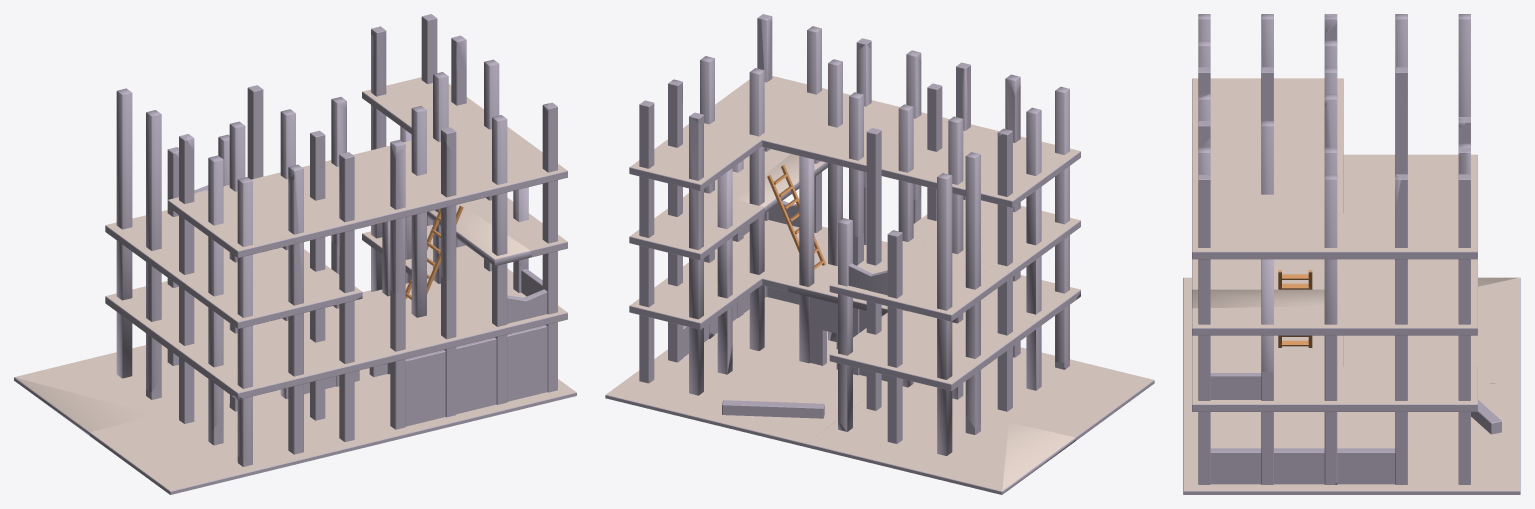
Rendered from construction1.fbx.
3 renders of one model, left to right at view 1: azimuth 30°, elevation 25°; view 2: azimuth 150°, elevation 25°; view 3: azimuth 270°, elevation 25°, orthographic. The views are drawn at different scales.
Parts seen in each view (by area): view 1: construction1.001_cell.002, construction1.005_cell.004, construction1.005_cell, construction1.001_cell.009, construction1.001_cell.003, construction1.001_cell.004, construction1.002_cell.002, construction1.006_cell.003, construction1.004_cell.002, construction1.021_cell.001, construction1.019_cell.002, construction1.032_cell.002 (+44 smaller); view 2: construction1.001_cell.003, construction1.001_cell.002, construction1.001_cell.005, construction1.001_cell.009, construction1.005_cell, construction1.004_cell.003, construction1.005_cell.004, construction1.032_cell.002, construction1.003_cell.002, construction1.005_cell.001, construction1.025_cell.001, construction1.001_cell (+51 smaller); view 3: construction1.001_cell.005, construction1.005_cell.004, construction1.005_cell, construction1.001_cell.004, construction1.001_cell.003, construction1.002_cell, construction1.004_cell.003, construction1.005_cell.003, construction1.001_cell.007, construction1.003_cell.002, construction1.007_cell, construction1.003_cell.001 (+32 smaller).
Part boxes in pixels (x1,y1,x2,y2): construction1.001_cell.002: (89,389,377,494); construction1.005_cell.004: (325,145,567,226); construction1.005_cell: (167,175,368,257); construction1.001_cell.009: (105,282,300,398); construction1.001_cell.003: (14,345,229,414); construction1.001_cell.004: (325,368,576,444); construction1.002_cell.002: (304,289,430,369); construction1.006_cell.003: (472,325,547,406); construction1.004_cell.002: (154,259,302,328); construction1.021_cell.001: (237,177,252,460); construction1.019_cell.002: (339,153,354,441); construction1.032_cell.002: (179,135,194,423); construction1.001_cell.003: (806,392,1008,494); construction1.001_cell.002: (881,347,1154,440); construction1.001_cell.005: (605,344,866,411); construction1.001_cell.009: (894,275,1080,390); construction1.005_cell: (915,124,1080,207); construction1.004_cell.003: (829,241,999,321); construction1.005_cell.004: (725,76,949,152); construction1.032_cell.002: (997,130,1012,411); construction1.003_cell.002: (629,194,764,260); construction1.005_cell.001: (662,133,917,183); construction1.025_cell.001: (1026,107,1041,390); construction1.001_cell: (624,399,837,446); construction1.001_cell.005: (1346,412,1520,494); construction1.005_cell.004: (1192,143,1285,259); construction1.005_cell: (1192,78,1343,146); construction1.001_cell.004: (1183,386,1351,494); construction1.001_cell.003: (1361,277,1520,383); construction1.002_cell: (1269,351,1446,411); construction1.004_cell.003: (1343,154,1477,213); construction1.005_cell.003: (1268,145,1375,259); construction1.001_cell.007: (1192,261,1477,289); construction1.003_cell.002: (1337,289,1477,335); construction1.007_cell: (1211,448,1395,484); construction1.003_cell.001: (1192,306,1350,335).
Bounding box in the file's own units: 8.83 × 13.24 × 8.94.
